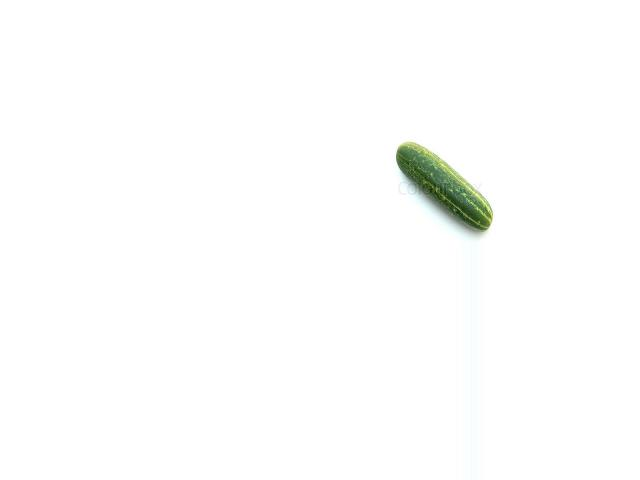cucumber: (396, 141, 494, 231)
